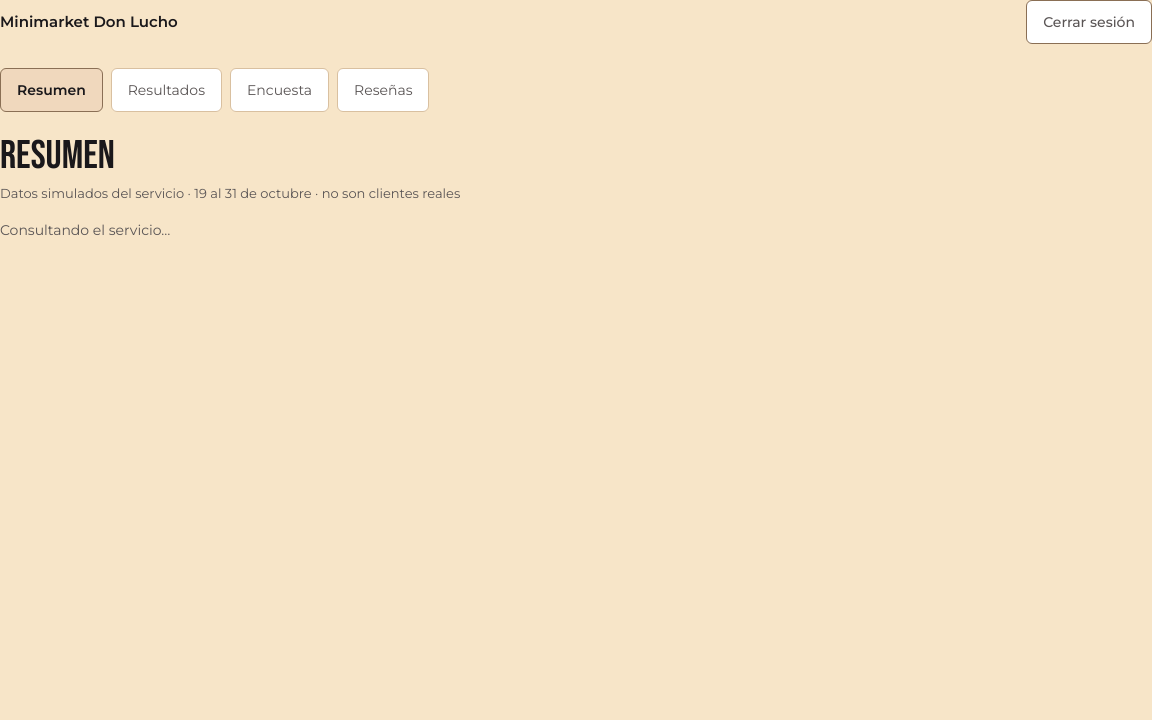
Test: PanelPage: dependiente de la sesión › 7. pestañas sin selector: Resultados usa el empresa_id de la sesión
The image size is (1152, 720).
Click the tab "Resultados": (166, 90) x1=111 y1=68 x2=222 y2=112
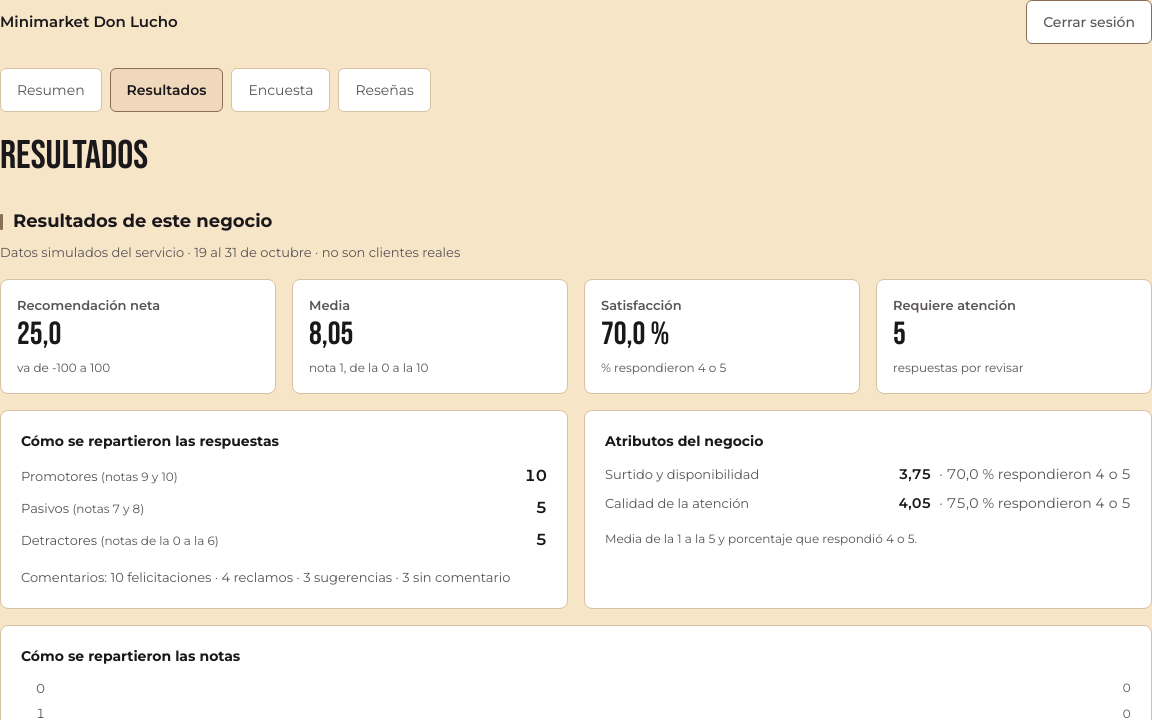
Check: the heading "Resultados" is shown, box x1=0 y1=132 x2=148 y2=180
Check: the heading "Resultados de este negocio" is shown, box x1=0 y1=210 x2=272 y2=232
Check: the text "25,0" is shown, box x1=17 y1=315 x2=61 y2=354
